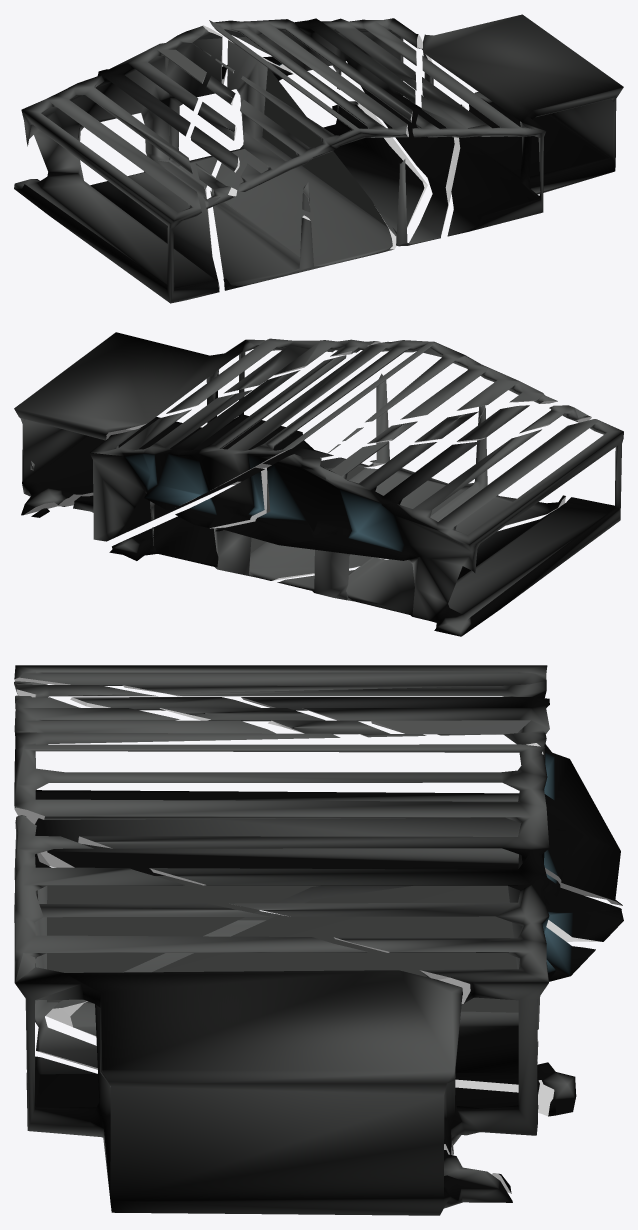
File: Storage Buildings.glb
3 renders of one model, top to bottom at view 1: azimuth 30°, elevation 25°; view 2: azimuth 150°, elevation 25°; view 3: azimuth 270°, elevation 25°, orthographic. The views are drawn at different scales.
Parts seen in each view (by area): view 1: Root, Root.011, Root.005, Root.001, Root.008, Root.006, Root.009; view 2: Root, Root.001, Root.011, Root.005, Root.008, Root.006, Root.009, Root.010; view 3: Root.011, Root.001, Root, Root.005, Root.008, Root.009, Root.006, Root.010.
Boxes of the visible parts, x1,y1,x2,y2 form: Root: (14, 25, 227, 303); Root.011: (412, 14, 623, 236); Root.005: (210, 39, 427, 290); Root.001: (209, 18, 465, 246); Root.008: (190, 126, 239, 172); Root.006: (195, 163, 237, 208); Root.009: (197, 102, 236, 140); Root: (215, 419, 623, 636); Root.001: (73, 340, 557, 541); Root.011: (14, 332, 380, 515); Root.005: (109, 437, 565, 580); Root.008: (457, 405, 529, 442); Root.006: (519, 405, 591, 433); Root.009: (414, 411, 478, 442); Root.010: (367, 421, 417, 443); Root.011: (14, 815, 512, 1215); Root.001: (14, 695, 595, 1154); Root: (14, 665, 622, 905); Root.005: (35, 854, 623, 1116); Root.008: (70, 697, 260, 710); Root.009: (160, 708, 325, 721); Root.006: (14, 681, 157, 697); Root.010: (268, 720, 389, 734).
Size of the model in its own units: 22.41 by 5.97 by 14.24.
